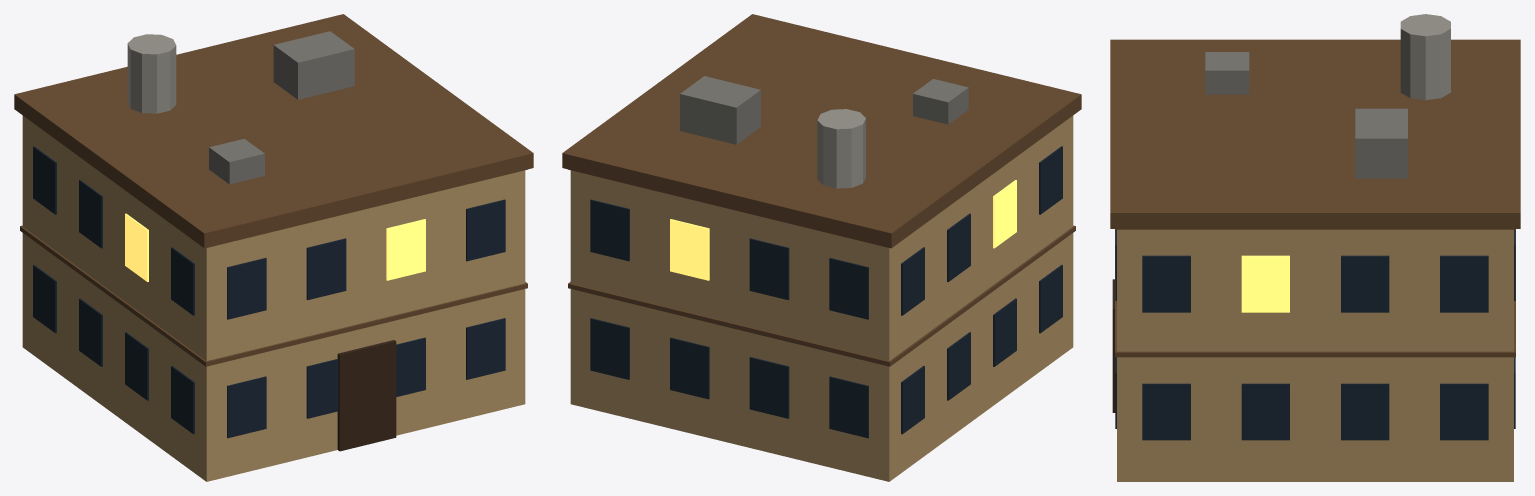
Rendered from building_2.glb.
The picture shows the model from 3 angles, left to right: view 1: azimuth 30°, elevation 25°; view 2: azimuth 150°, elevation 25°; view 3: azimuth 270°, elevation 25°; orthographic projection. The views are drawn at different scales.
Visible parts, largest first — view 1: building_2; view 2: building_2; view 3: building_2.
Part boxes in pixels (<box>): building_2: <box>14,14,533,481</box>; building_2: <box>562,14,1081,481</box>; building_2: <box>1110,14,1520,481</box>.
Size of the model in its own units: 9.3 by 8.4 by 9.3.
